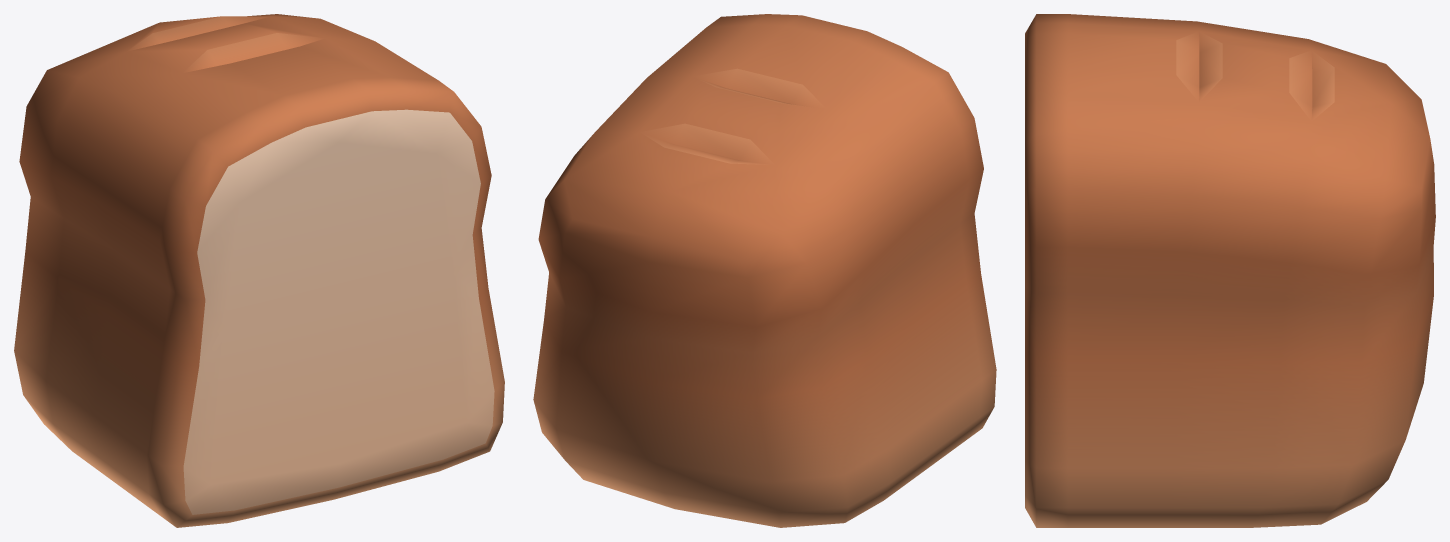
The model's file is bread_half.obj.
3 renders of one model, left to right at view 1: azimuth 30°, elevation 25°; view 2: azimuth 150°, elevation 25°; view 3: azimuth 270°, elevation 25°, orthographic. The views are drawn at different scales.
Visible parts, largest first — view 1: bread_half; view 2: bread_half; view 3: bread_half.
Boxes of the visible parts, <box> form: bread_half: <box>14,14,504,527</box>; bread_half: <box>533,14,996,527</box>; bread_half: <box>1025,14,1435,527</box>.
Bounding box in the file's own units: 0.4612 × 0.5155 × 0.4691.
Materials: 1 (1 with a texture image).
